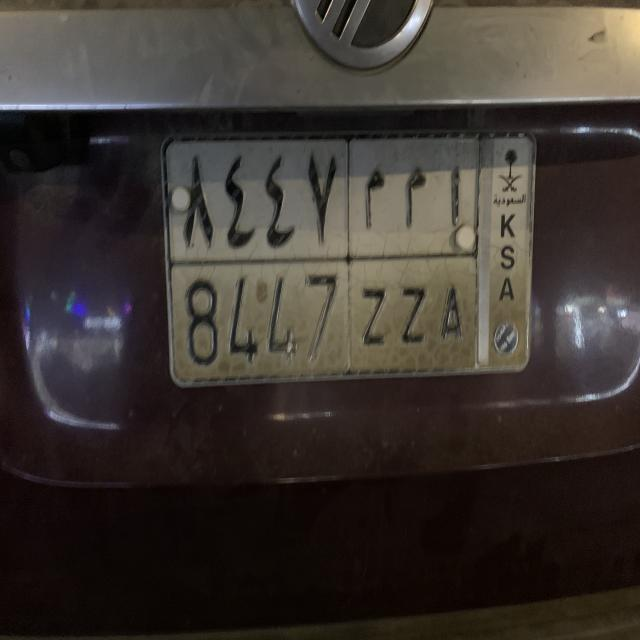license_plate: (157, 125, 540, 393)
